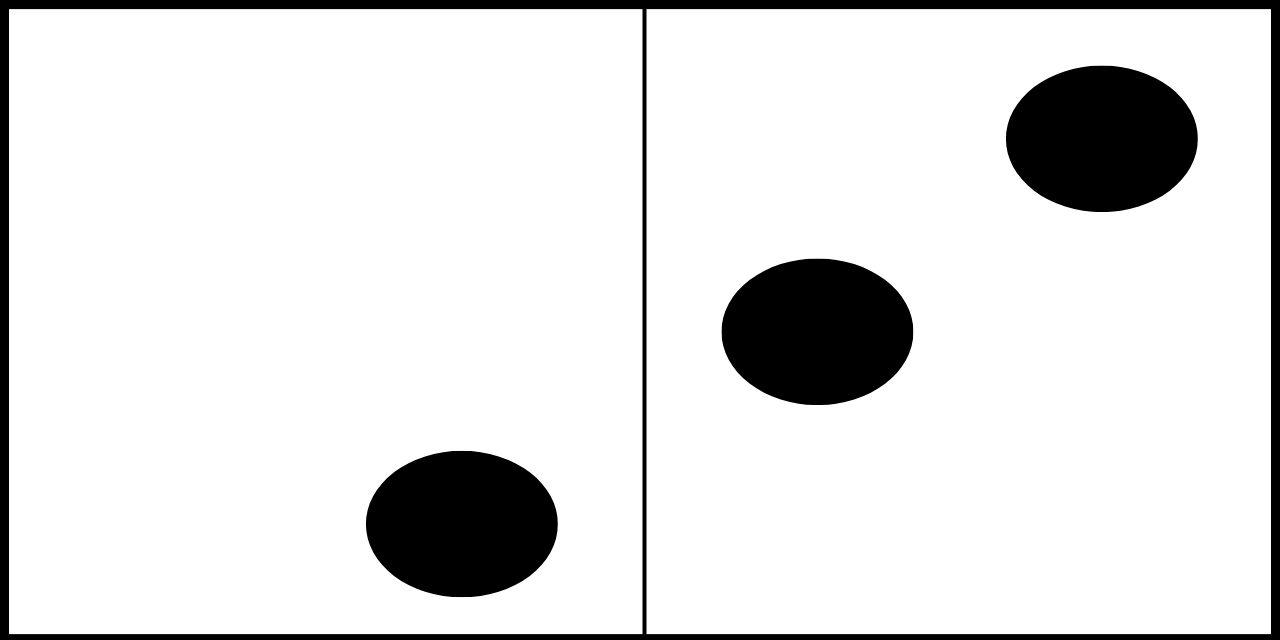I: (723, 59, 1198, 597)
capital: (99, 63, 557, 595)
